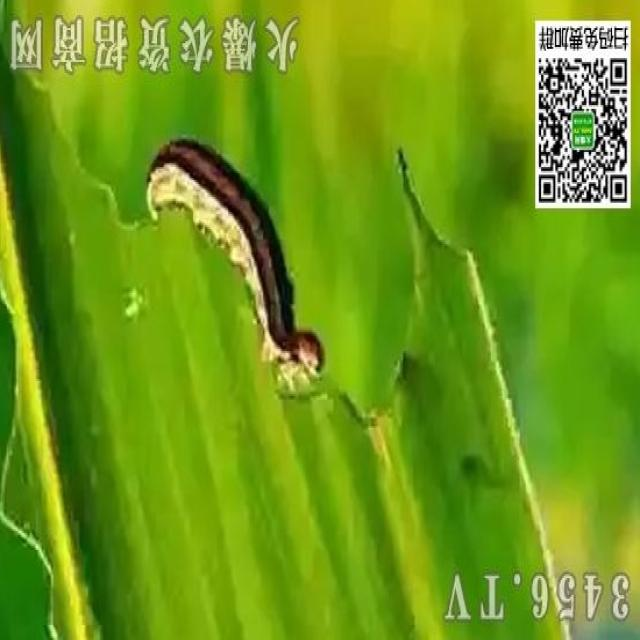army worm: (133, 129, 333, 392)
